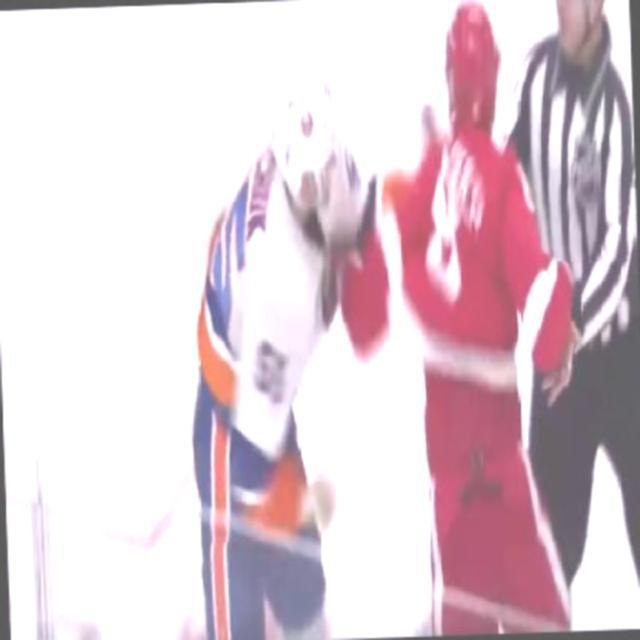fight: (178, 0, 592, 638)
